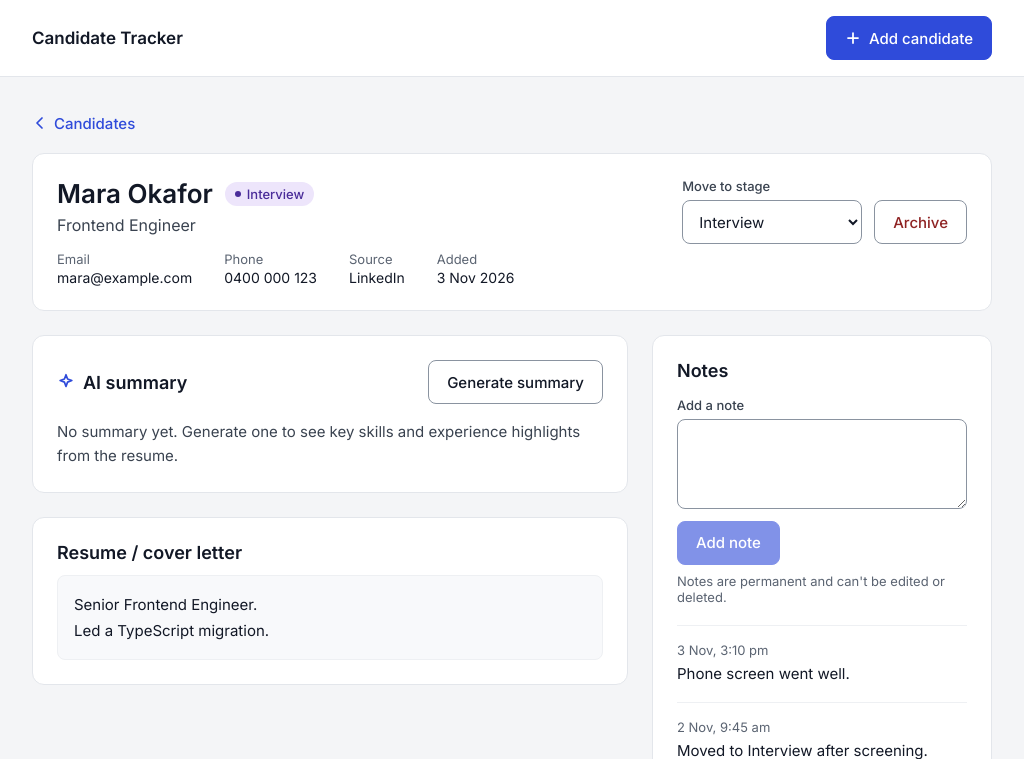
Test case: candidate detail: stage and archive › keeps the old stage and says so when the change fails
This screenshot has width=1024, height=759.
Expected: the heading "Mara Okafor" is shown, [57,178,213,209]
Select "Offer" in the dropdown labelled "Move to stage" at (772, 222), box [682,200,862,244]
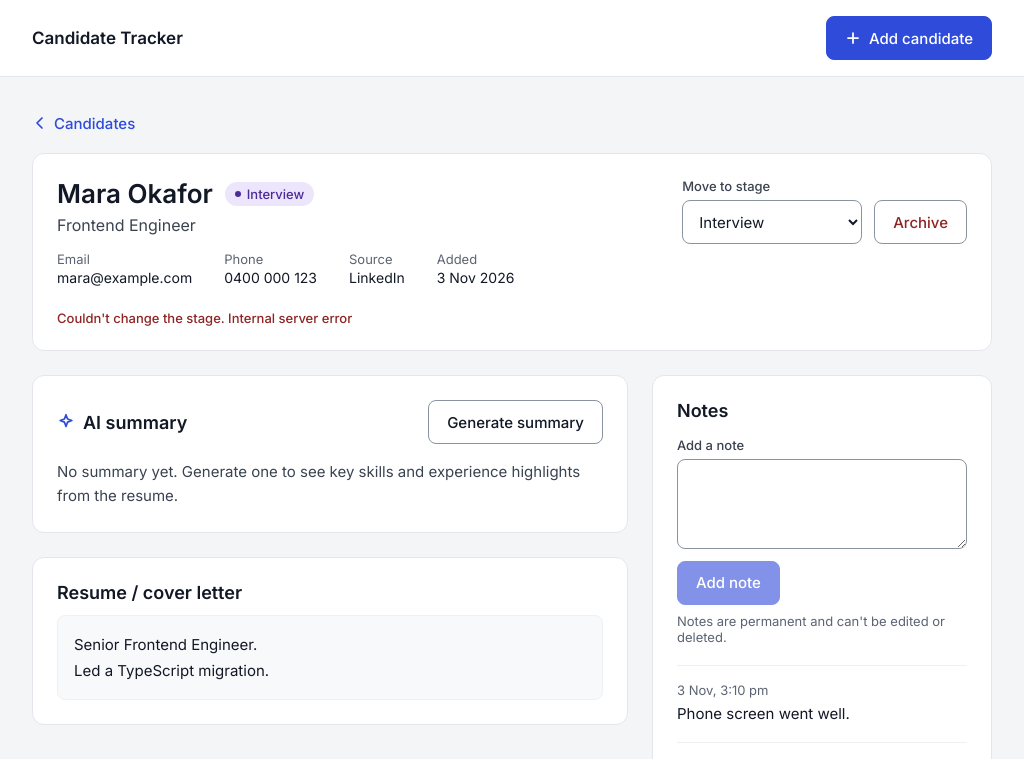
Expected: the message reads "Couldn't change the stage. Internal server error", [57,310,352,326]
